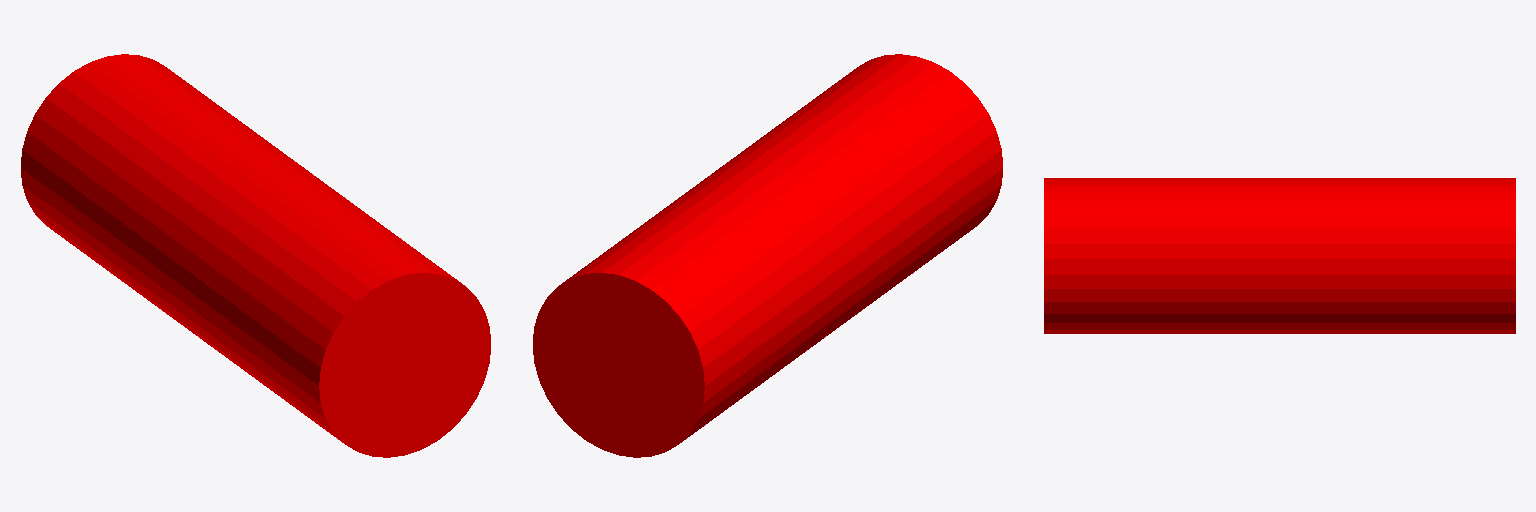
The robot description file, URDF, robot "cylinder":
<?xml version="1.0" ?>
<robot name="cylinder">
  <link name="baseLink">
    <contact>
      <lateral_friction value="1.0"/>
      <rolling_friction value="0.0"/>
      <contact_cfm value="0.0"/>
      <contact_erp value="1.0"/>
    </contact>
    <inertial>
      <origin rpy="0 0 0" xyz="0 0 0"/>
       <mass value="1.0"/>
       <inertia ixx="1" ixy="0" ixz="0" iyy="1" iyz="0" izz="1"/>
    </inertial>
    <visual>
      <origin rpy="0 0 0" xyz="0 0 0"/>
      <geometry>
				<mesh filename="cylinder.obj" scale="0.5 0.5 0.5"/>
      </geometry>
       <material name="red">
        <color rgba="1 0 0 1"/>
      </material>
    </visual>
    <collision>
      <origin rpy="0 0 0" xyz="0 0 0"/>
      <geometry>
	 	<mesh filename="cylinder.obj" scale="0.5 0.5 0.5"/>
      </geometry>
    </collision>
  </link>
</robot>

--- What the picture shows (computed from the rendered views, not written in the file) ---
3 views of the same robot in one strip: view 1: azimuth 30°, elevation 25°; view 2: azimuth 150°, elevation 25°; view 3: azimuth 270°, elevation 25° (orthographic).
Model cylinder with 1 links and 0 joints (none), rooted at baseLink, posed every joint at zero.
Links seen in each view (by area): view 1: baseLink; view 2: baseLink; view 3: baseLink.
Boxes of the visible links, x1,y1,x2,y2 form: baseLink: (21, 54, 490, 457); baseLink: (533, 54, 1002, 457); baseLink: (1044, 178, 1515, 333).
Size in the robot's own frame: 1 by 3 by 1 metres.
1 mesh visuals loaded from 1 distinct referenced files (1 OBJ).